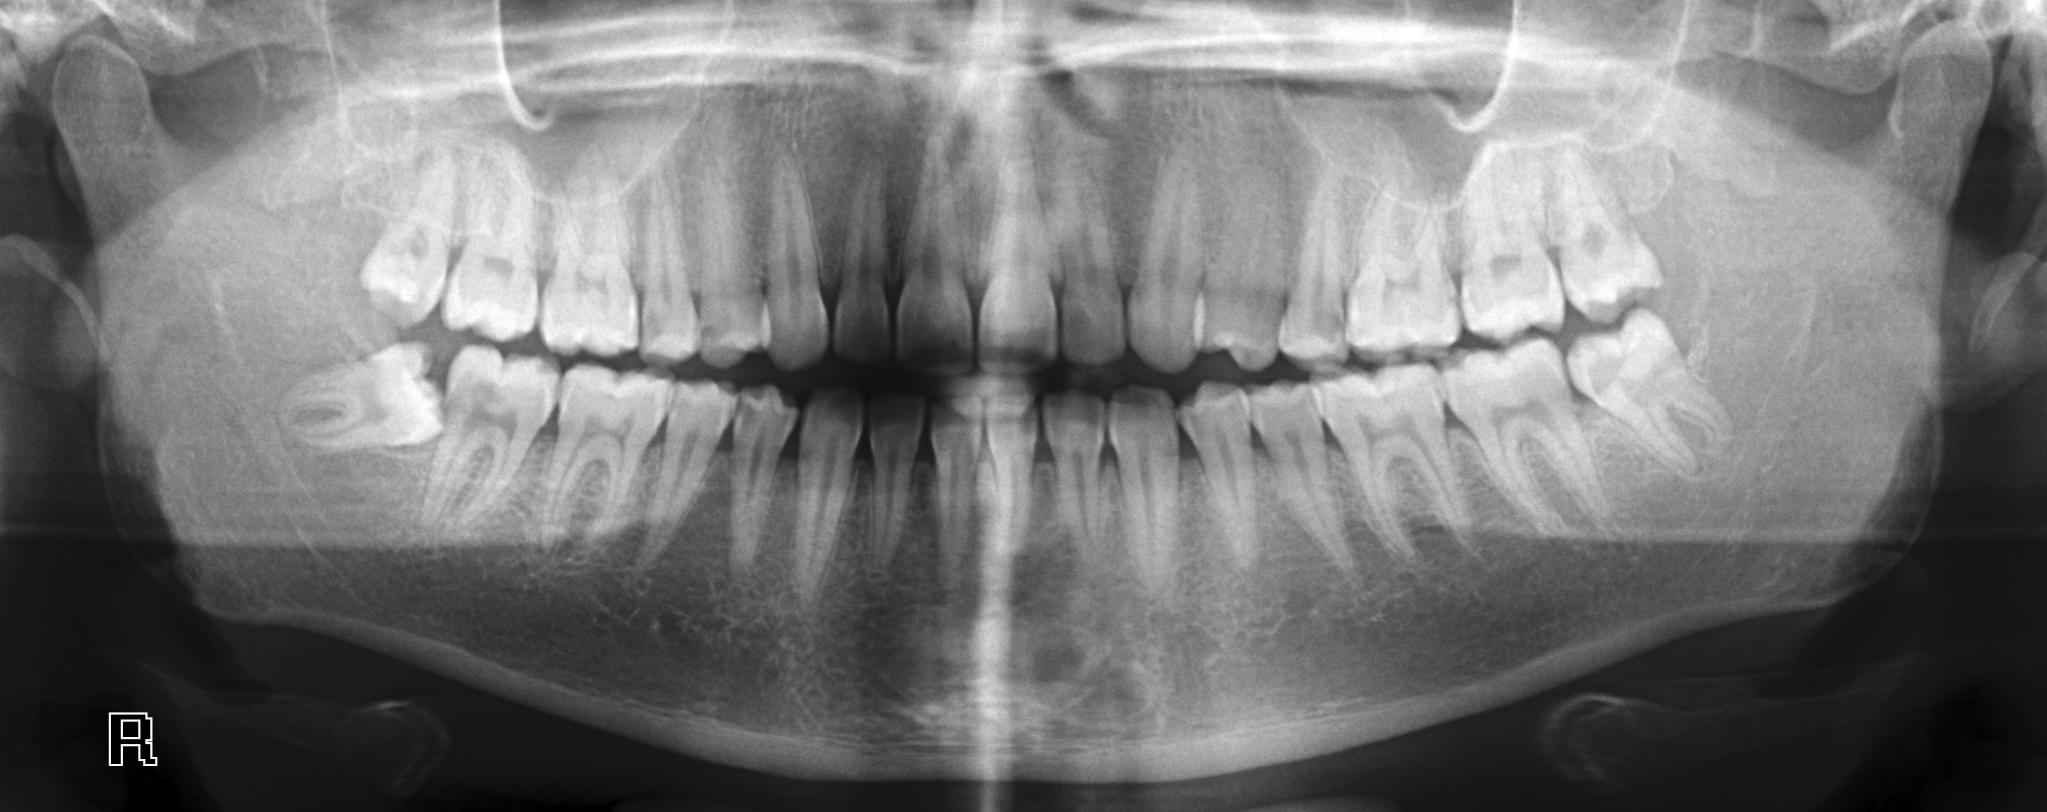Impacted Tooth: (281, 339, 445, 462)
